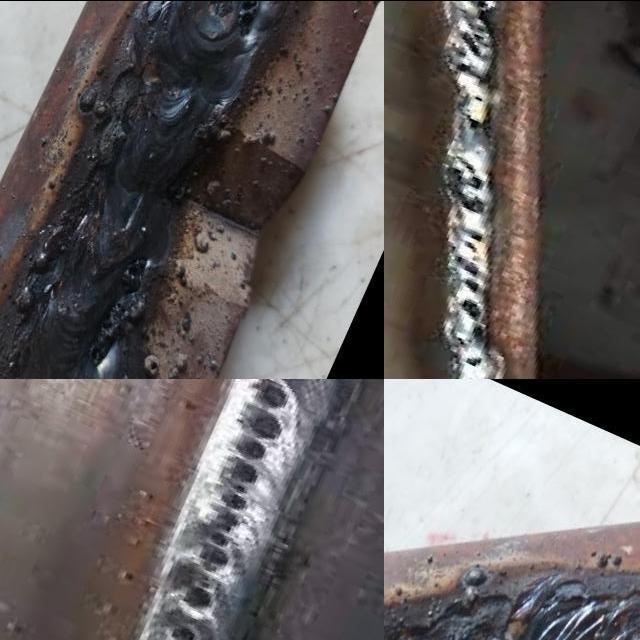defect: (193, 378, 295, 581), (87, 294, 138, 366), (440, 156, 492, 216), (450, 13, 492, 78), (457, 227, 492, 295), (164, 579, 219, 619), (459, 293, 489, 344), (235, 0, 265, 41), (119, 255, 150, 291), (159, 621, 204, 640), (460, 107, 485, 133), (462, 352, 487, 370), (467, 0, 497, 12), (472, 94, 486, 104)
